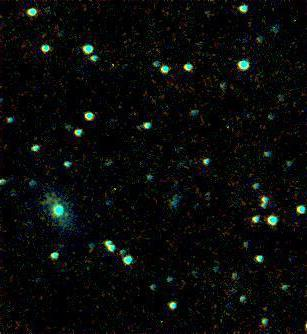star: (51, 203, 81, 233)
